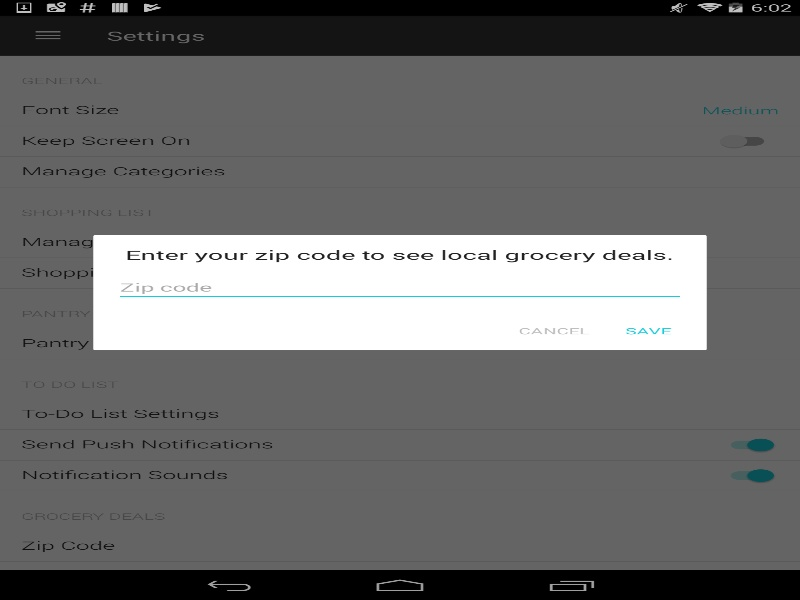Button: (502, 314, 605, 347), (605, 314, 690, 347)
Input: (114, 273, 685, 301)
